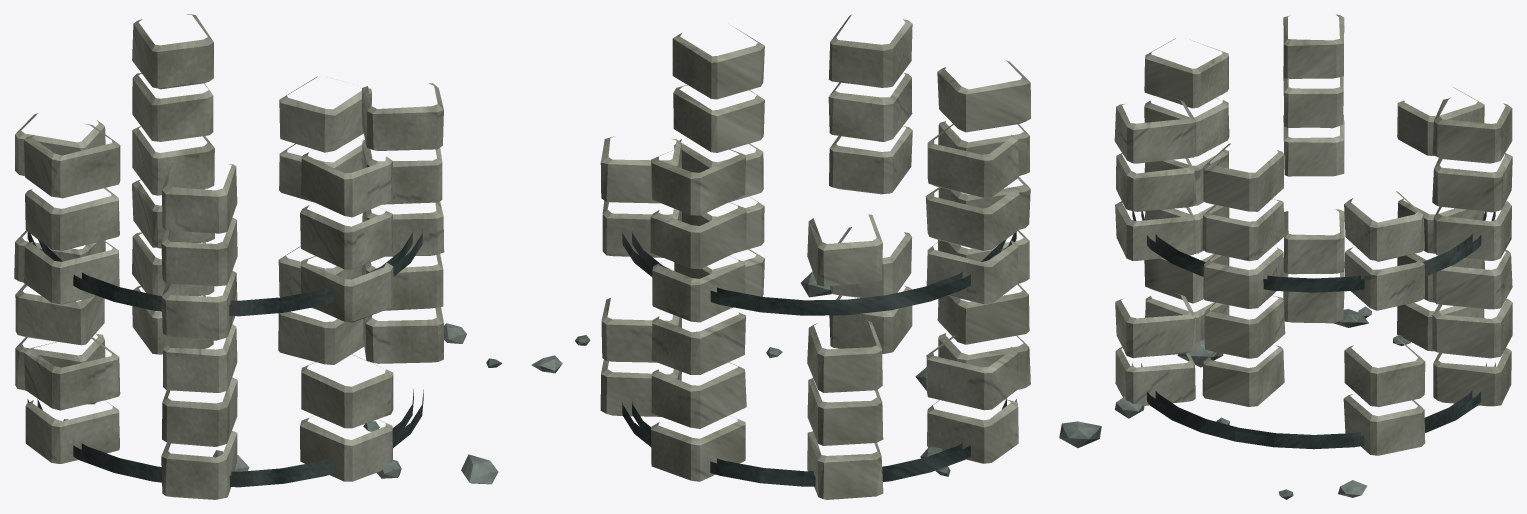
Rendered from 0406_ruined_tower_06.glb.
The picture shows the model from 3 angles, left to right: view 1: azimuth 30°, elevation 25°; view 2: azimuth 150°, elevation 25°; view 3: azimuth 270°, elevation 25°; orthographic projection. The views are drawn at different scales.
Parts seen in each view (by area): view 1: stone_light, stone_dark, stone; view 2: stone_light, stone_dark, stone; view 3: stone_light, stone_dark, stone.
Part boxes in pixels (<box>): stone_light: <box>14,14,444,499</box>; stone_dark: <box>27,229,423,487</box>; stone: <box>63,323,502,484</box>; stone_light: <box>600,14,1030,499</box>; stone_dark: <box>622,231,1016,486</box>; stone: <box>531,271,950,476</box>; stone_light: <box>1114,14,1512,455</box>; stone_dark: <box>1132,211,1495,449</box>; stone: <box>1059,306,1410,499</box>.
Bounding box in the file's own units: 3.71 × 2.52 × 3.55.
3 materials, 3 textured.
